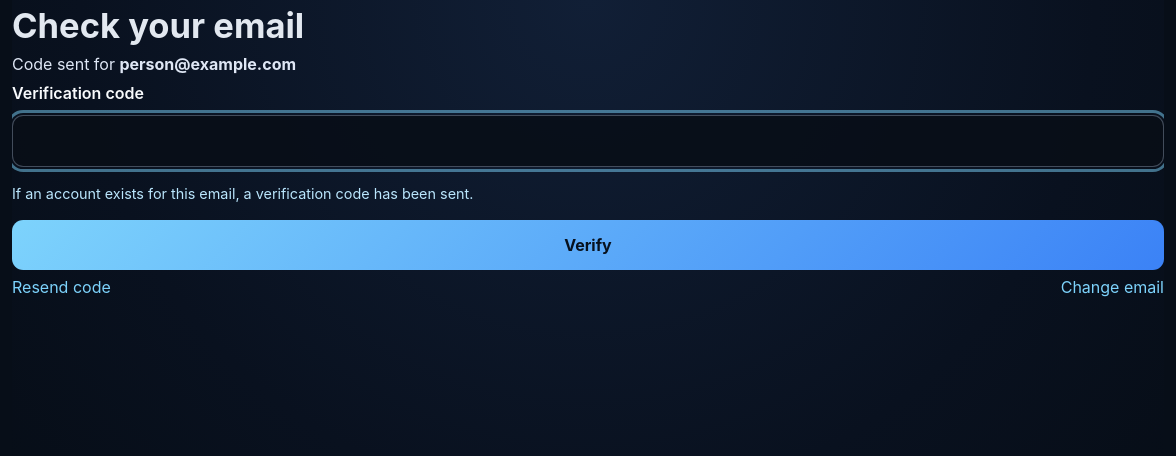
Test: OtpVerificationStep › shows a safe temporary message when verification is unavailable
Type "123456" into the field labelled "Verification code".
click(588, 141); type("123456")  # box [12,115,1164,167]
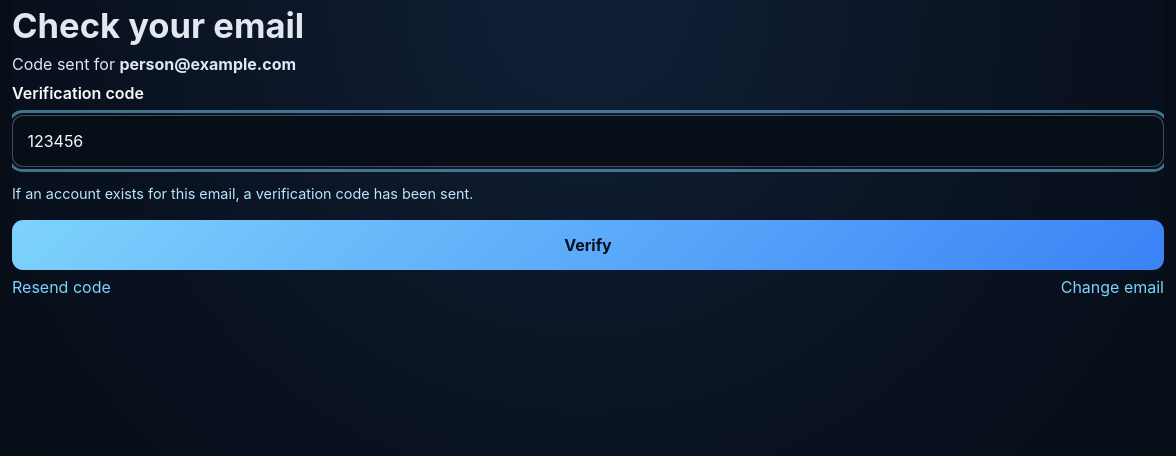
Click the button "Verify".
click(588, 245)  # box [12,220,1164,270]
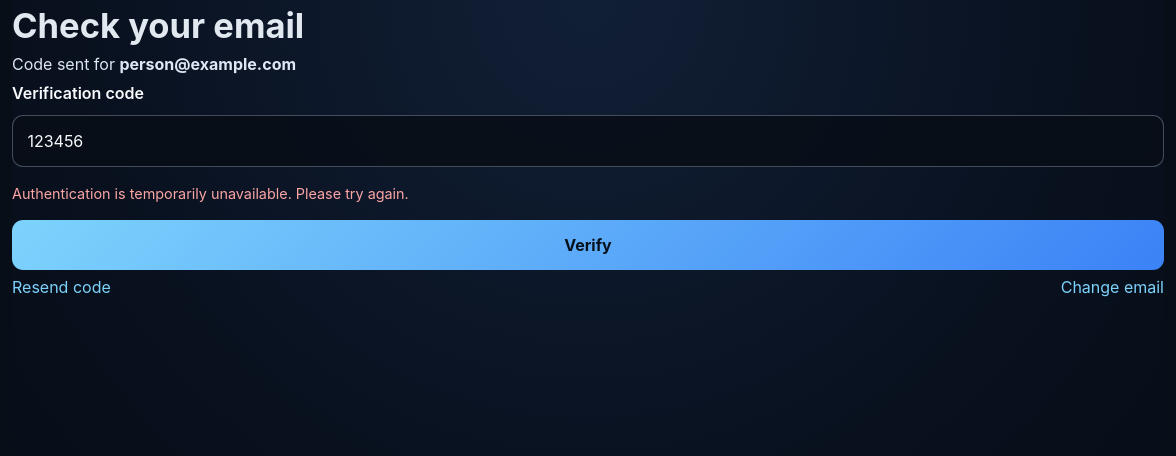
Now the message reads "Authentication is temporarily unavailable. Please try again.", box [12,185,409,202]
